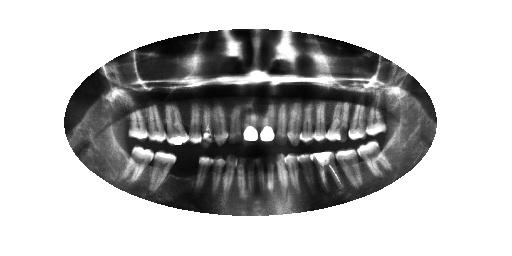i10healthy: (235, 152, 246, 203)
i11healthy: (221, 149, 238, 204)
i12healthy: (208, 149, 226, 201)
i13healthy: (194, 150, 214, 200)
i14loss: (167, 143, 200, 194)
i15healthy: (145, 145, 178, 193)
i16healthy: (122, 138, 157, 194)
i1healthy: (354, 138, 394, 179)
i2healthy: (332, 144, 367, 194)
i3healthy: (308, 146, 345, 195)
i4healthy: (297, 148, 318, 196)
i5healthy: (283, 145, 302, 199)
i6healthy: (273, 148, 291, 200)
i7decay: (262, 147, 280, 199)
i8decay: (254, 149, 267, 200)
i9decay: (243, 152, 256, 197)
u10healthy: (227, 94, 244, 147)
u11healthy: (209, 98, 231, 151)
u12decay: (199, 97, 215, 149)
u13healthy: (187, 87, 203, 148)
u14healthy: (161, 96, 191, 151)
u15healthy: (142, 98, 168, 147)
u16healthy: (126, 99, 148, 142)
u1healthy: (364, 83, 389, 141)
u2healthy: (346, 82, 369, 145)
u3decay: (322, 92, 352, 146)
u4healthy: (312, 98, 327, 144)
u5healthy: (297, 96, 315, 146)
u6healthy: (285, 95, 301, 150)
u7healthy: (273, 93, 289, 147)
u8healthy: (258, 99, 277, 151)
u9healthy: (240, 94, 262, 148)
